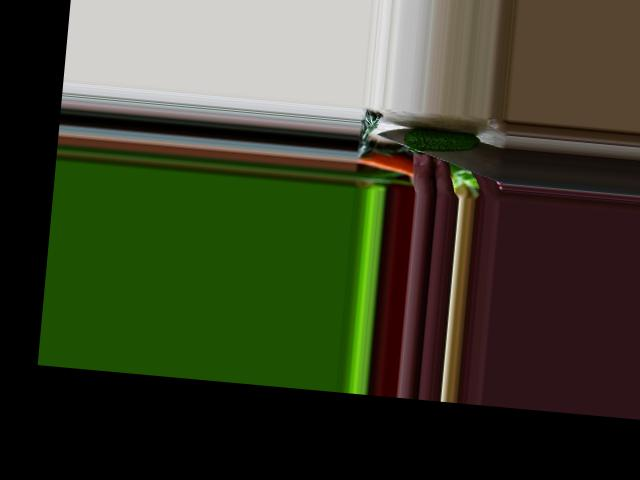cucumber: (402, 125, 480, 155)
